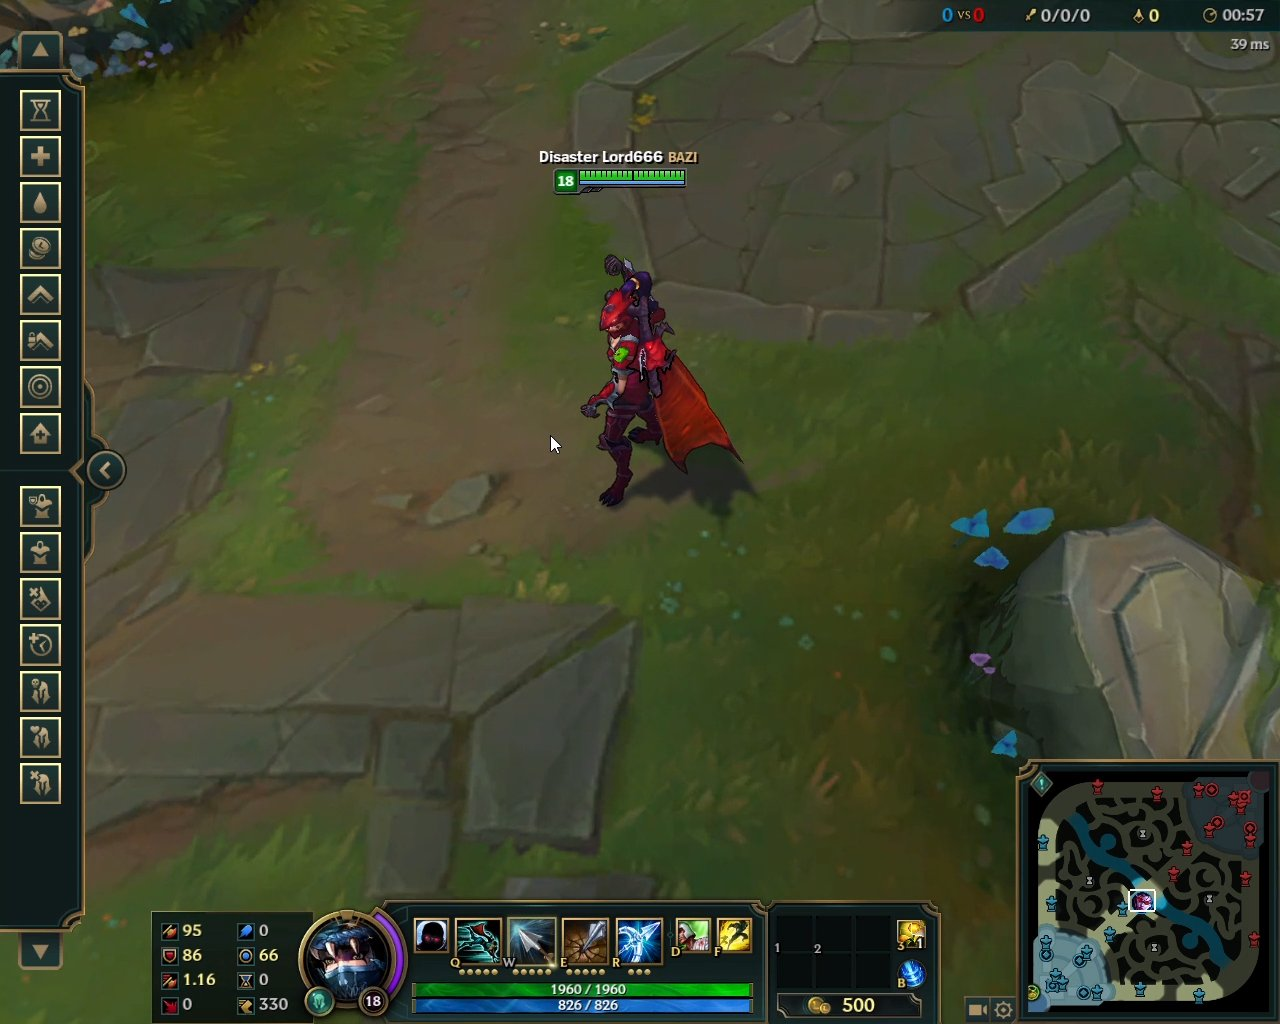Vayne: (565, 252, 748, 514)
